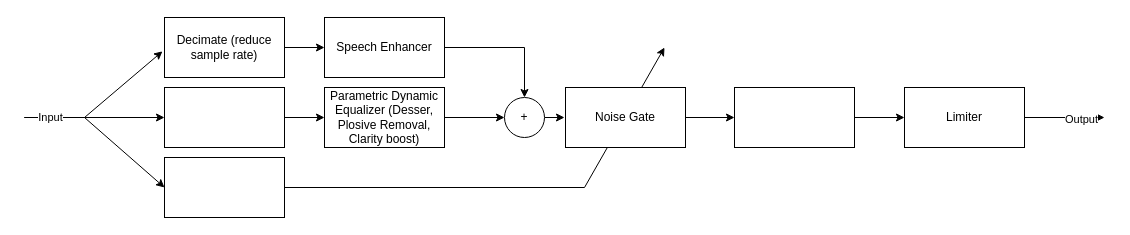
Some shapes in this 1130 by 235 pixel diagram are drawn without their labels. The shapes that lost their labels are listed below. From the top down, each one's box as (x1, y1, x2, y2) in pixels, then its label:
(164, 86, 284, 148): Hum-Bucking comb filter
(734, 86, 854, 148): Compressor
(164, 156, 284, 218): Voice Activity Detector
